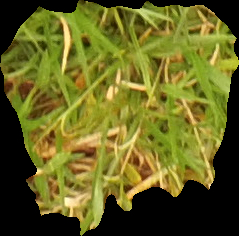grass: (1, 1, 237, 234)
